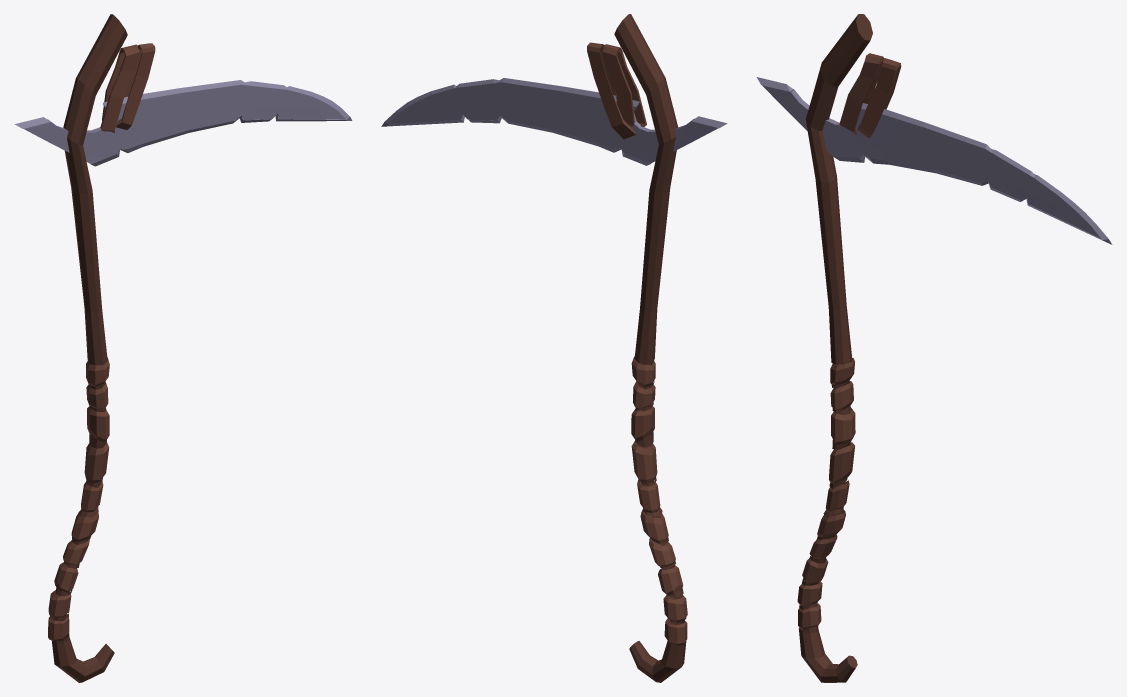
File: armory-necromancer-3.glb
3 views of the same model, side by side, from view 1: azimuth 30°, elevation 25°; view 2: azimuth 150°, elevation 25°; view 3: azimuth 330°, elevation 25° (orthographic). The views are drawn at different scales.
Visible parts, largest first — view 1: Scythe_Cylinder.005; view 2: Scythe_Cylinder.005; view 3: Scythe_Cylinder.005.
Boxes of the visible parts, x1=… form: Scythe_Cylinder.005: x1=15, y1=14, x2=352, y2=682; Scythe_Cylinder.005: x1=381, y1=14, x2=727, y2=682; Scythe_Cylinder.005: x1=756, y1=14, x2=1112, y2=682.
Bounding box in the file's own units: 3.6 × 6.64 × 0.3071.
